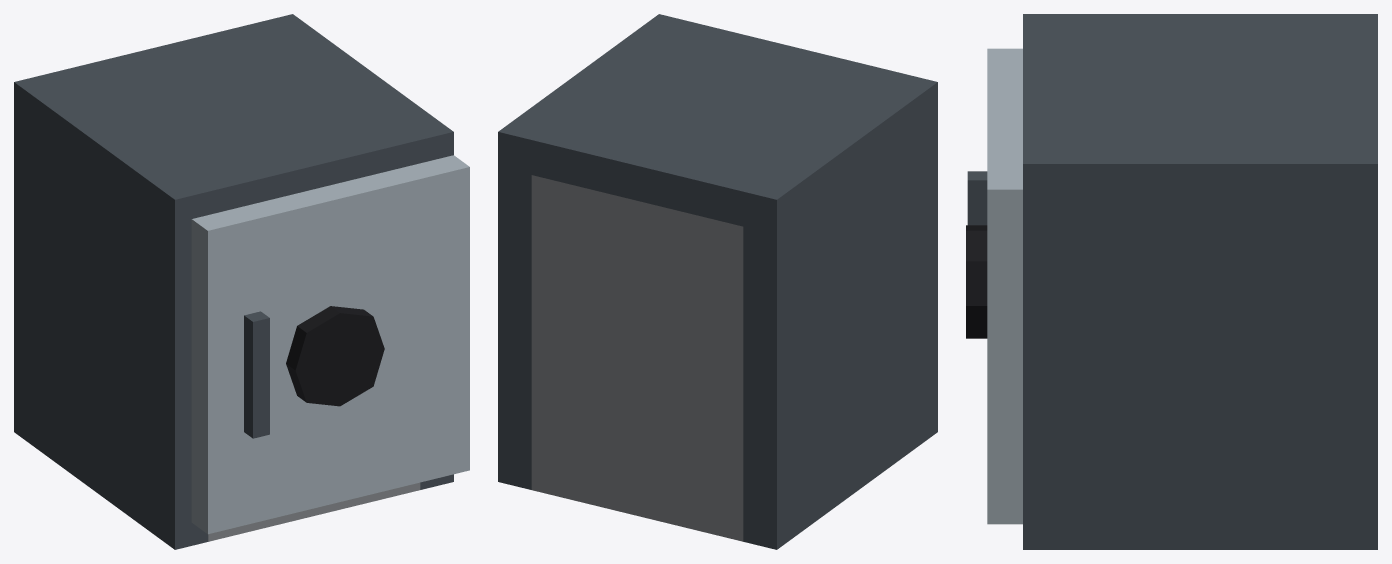
File: GI_Safe_01.glb
The picture shows the model from 3 angles, left to right: view 1: azimuth 30°, elevation 25°; view 2: azimuth 150°, elevation 25°; view 3: azimuth 270°, elevation 25°; orthographic projection. The views are drawn at different scales.
Parts seen in each view (by area): view 1: GI_Safe_01, Door; view 2: GI_Safe_01; view 3: GI_Safe_01, Door.
Part boxes in pixels (x1,y1,x2,y2): GI_Safe_01: (14,14,453,549); Door: (191,155,469,534); GI_Safe_01: (498,14,937,549); GI_Safe_01: (1023,14,1377,549); Door: (966,48,1022,524).
Bounding box in the file's own units: 0.5 × 0.6 × 0.58.
1 material, 1 textured.
